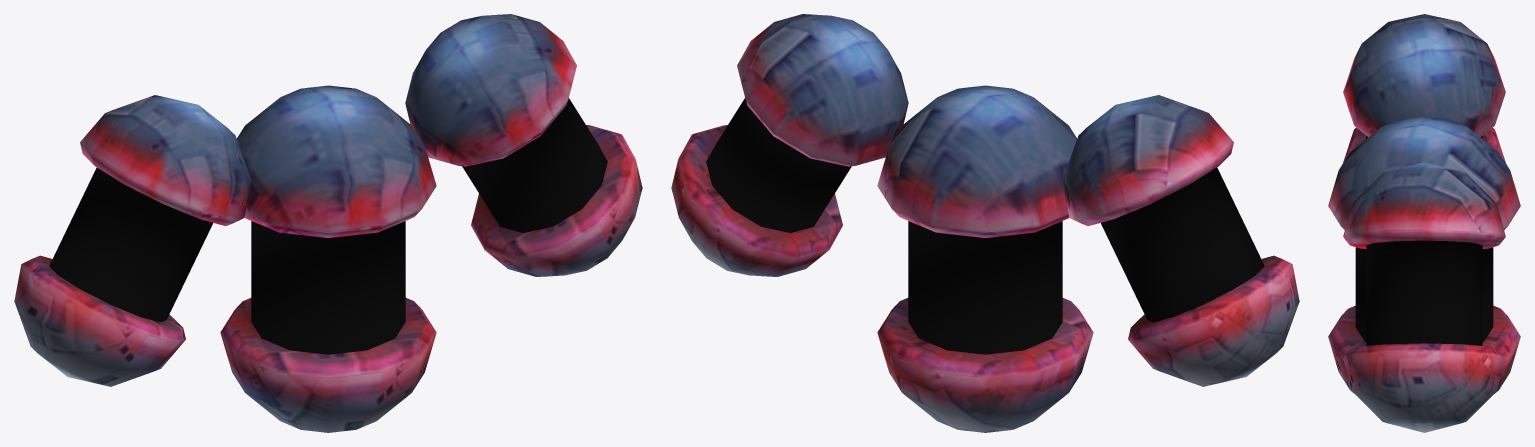
The model's file is PowereUps Triple.fbx.
3 views of the same model, side by side, from view 1: azimuth 30°, elevation 25°; view 2: azimuth 150°, elevation 25°; view 3: azimuth 270°, elevation 25° (orthographic). The views are drawn at different scales.
Visible parts, largest first — view 1: Sphere; view 2: Sphere; view 3: Sphere.
Boxes of the visible parts, box(x1,y1,x2,y2) form: Sphere: box(14, 14, 642, 432); Sphere: box(671, 14, 1299, 432); Sphere: box(1328, 14, 1520, 432).
Size of the model in its own units: 273 by 156 by 84.83.
